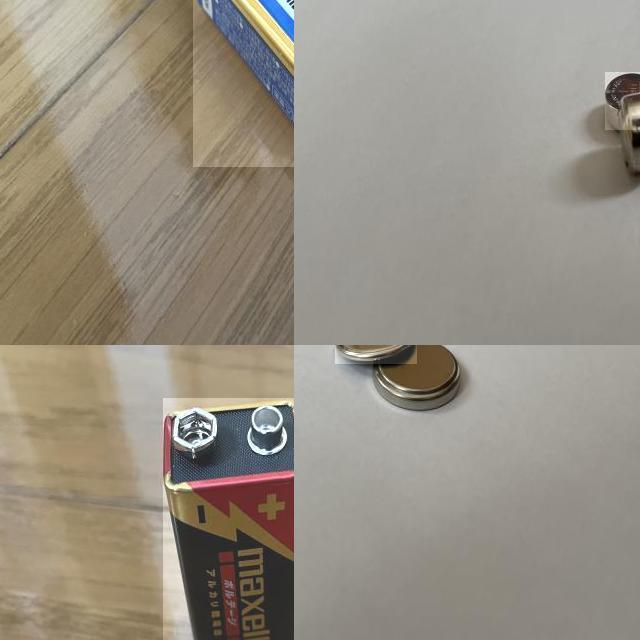9V: (163, 398, 294, 640), (193, 0, 294, 167)
